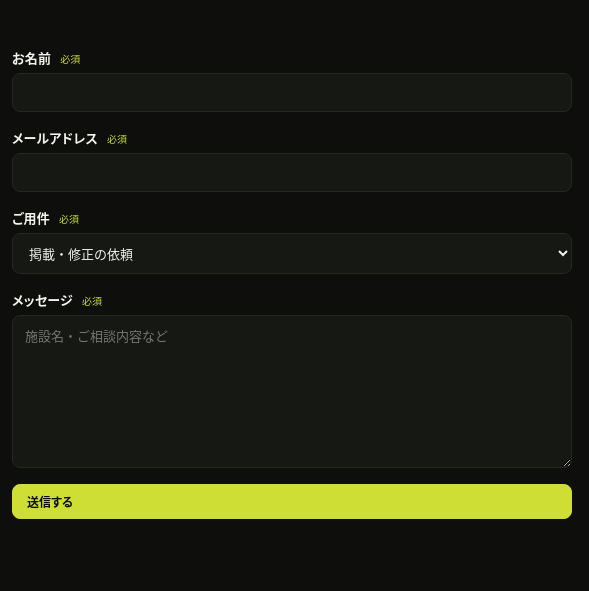
Test case: ContactForm › SHIG review (2nd round) › keeps the typed values when the server rejects the submission
In the field named "name": x=292, y=92 [12,73,572,112], type "テスト太郎"
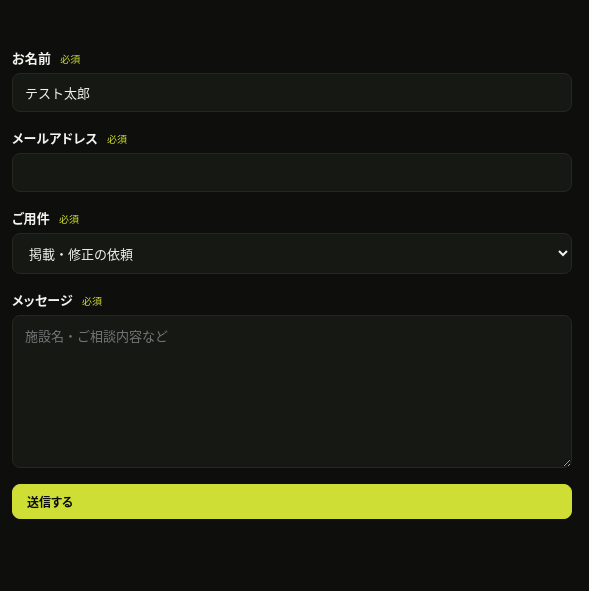
In the text box named "message": x=292, y=391 [12,315,572,468], type "これはテストのメッセージです。"
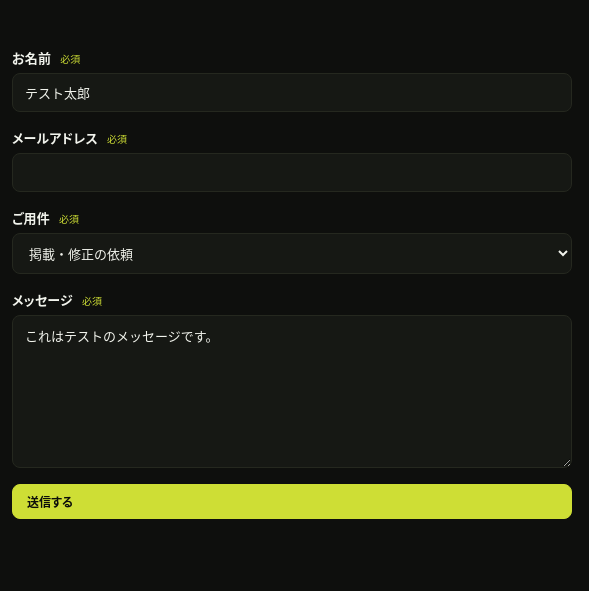
Select "PR掲載（特集枠）について" in the dropdown named "subject": x=292, y=254 [12,233,572,274]
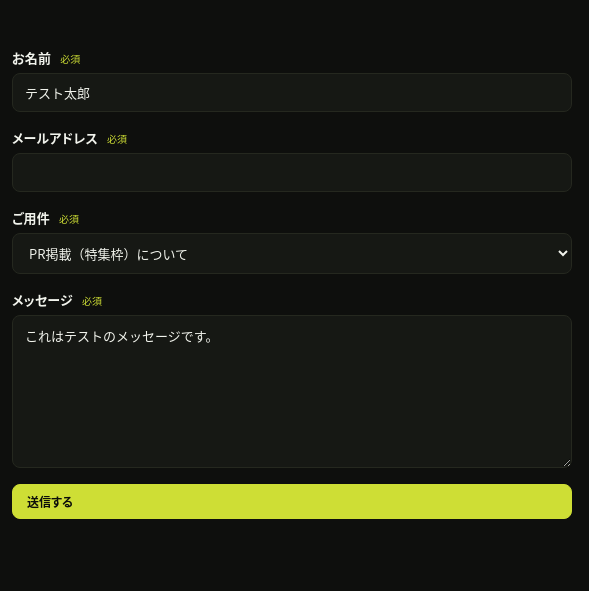
Submit the form
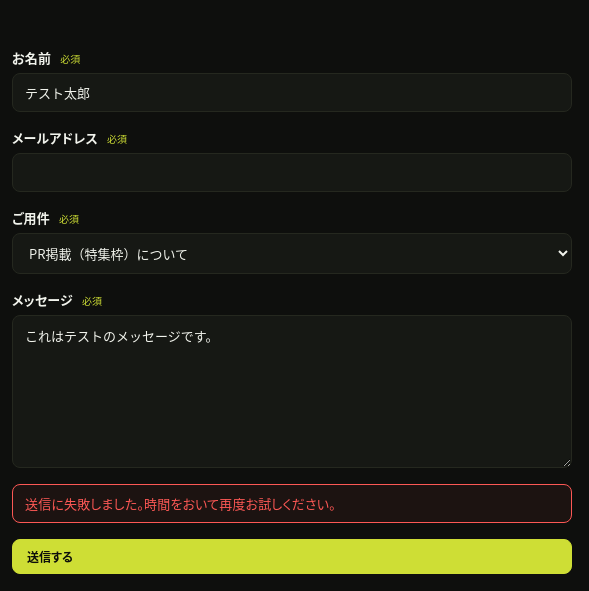
Now the message "送信に失敗しました。時間をおいて再度お試しください。" is shown, box [12,484,572,523]
